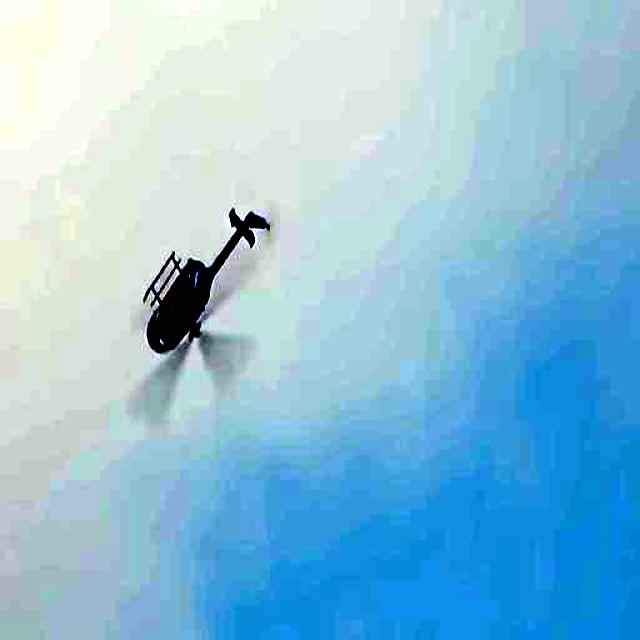drone: (118, 170, 281, 442)
